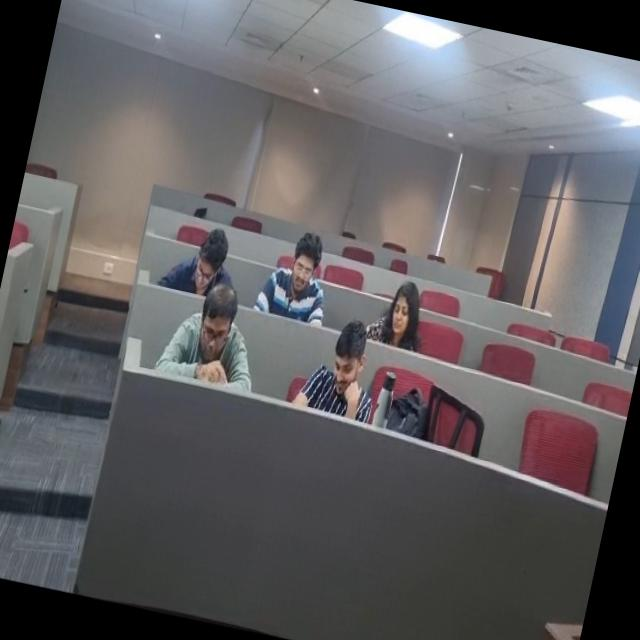cheating: (290, 312, 390, 429)
non-cheating: (158, 273, 268, 397), (252, 220, 346, 328), (154, 200, 246, 306), (368, 271, 443, 359)
